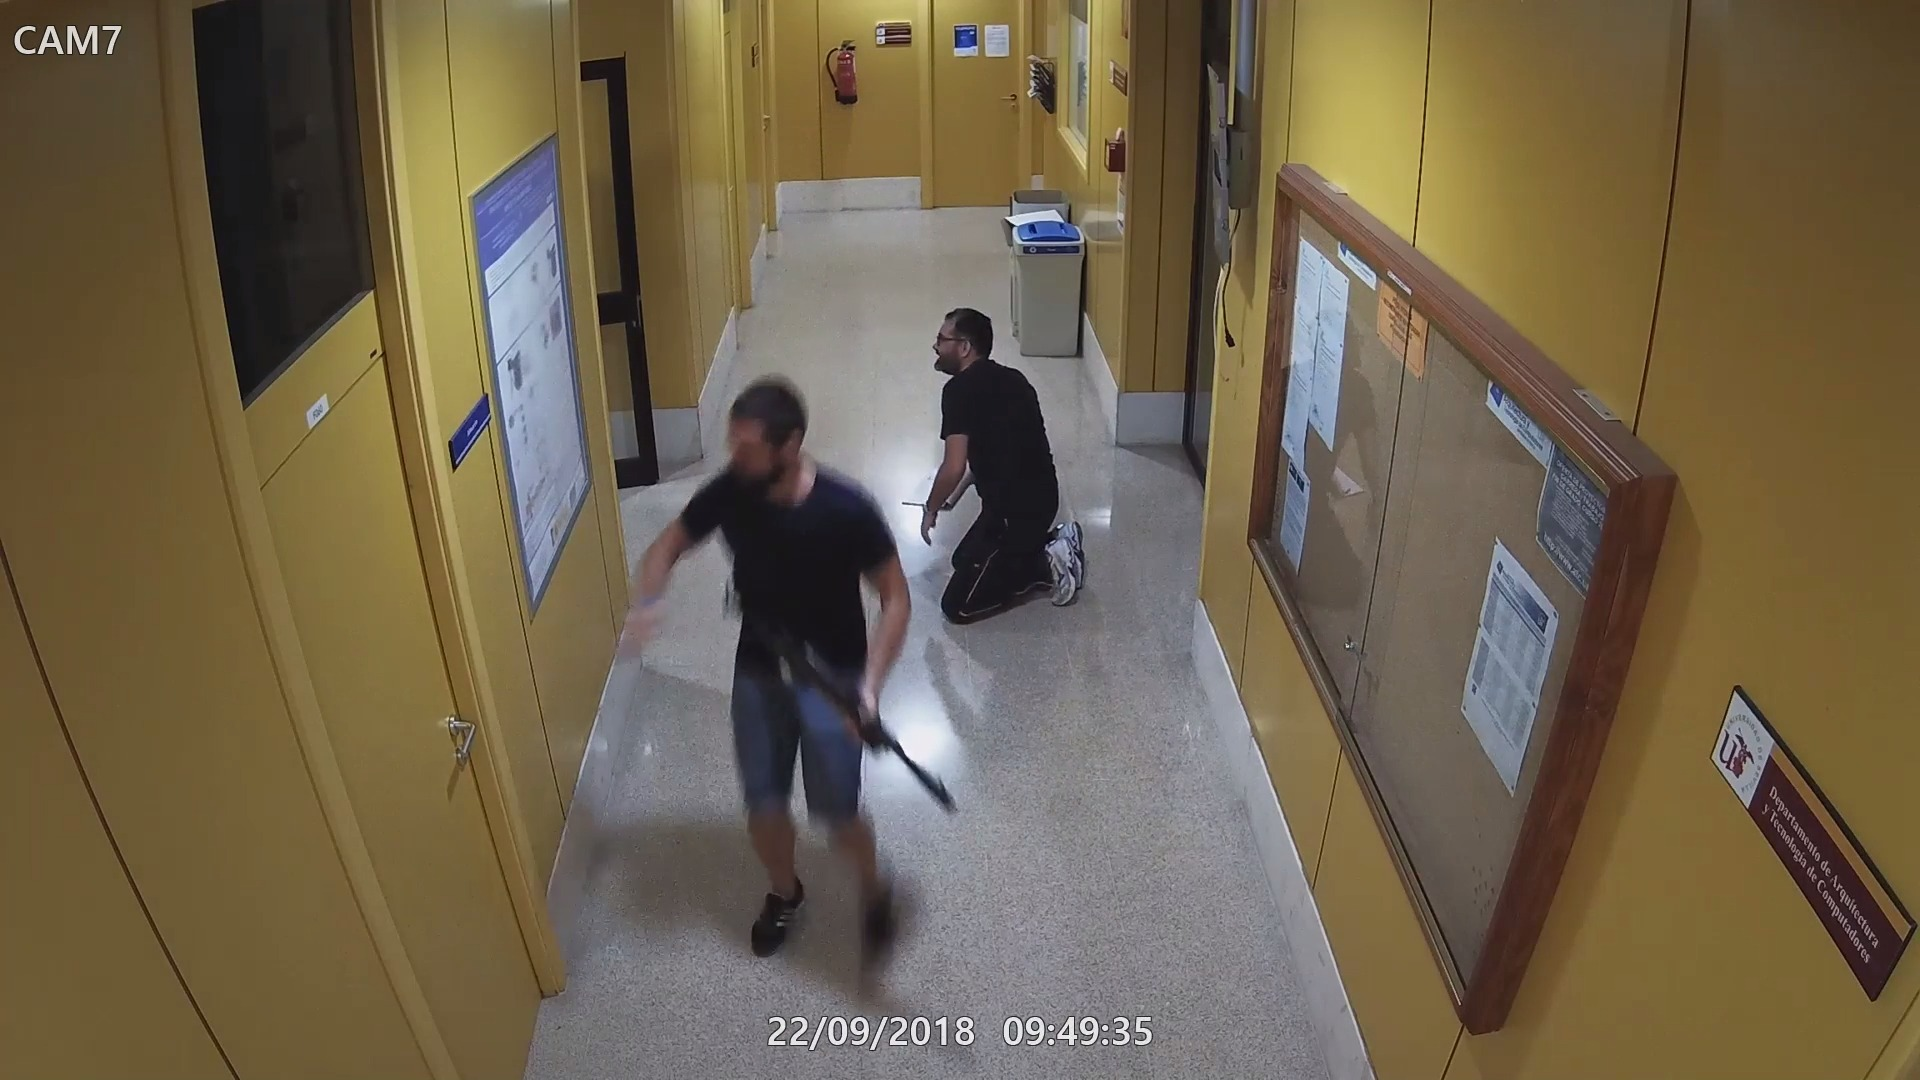Short_rifle: (723, 568, 953, 808)
